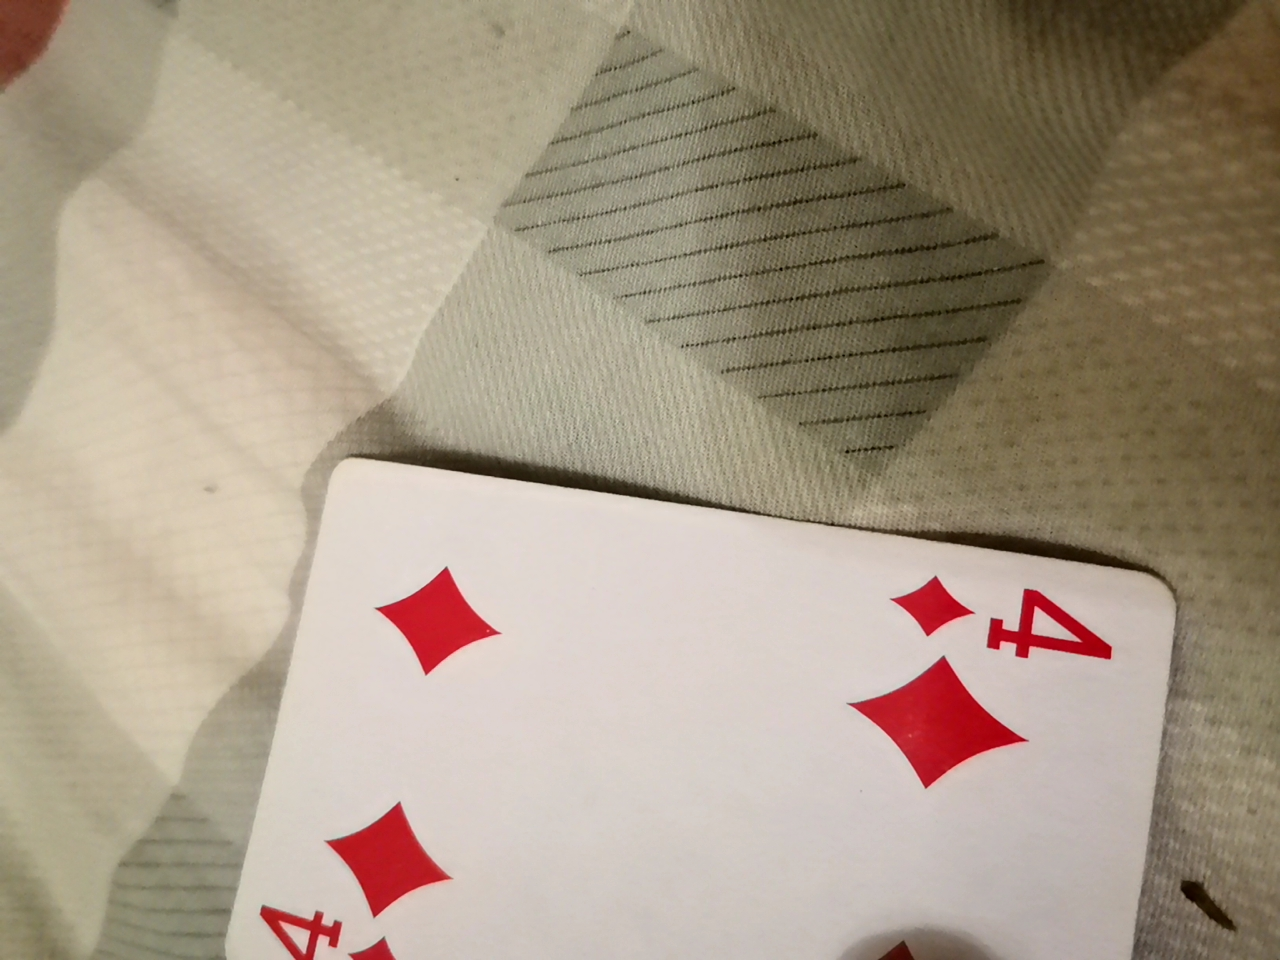fk 4: (211, 451, 1197, 960)
